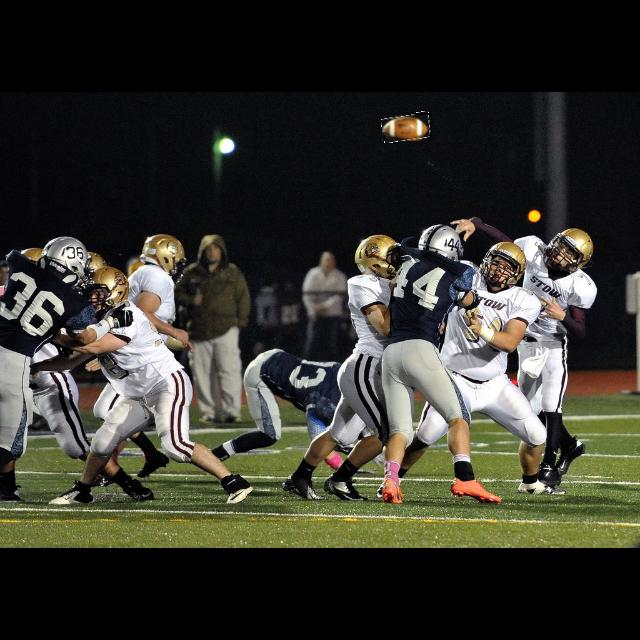Football: (382, 113, 432, 141)
